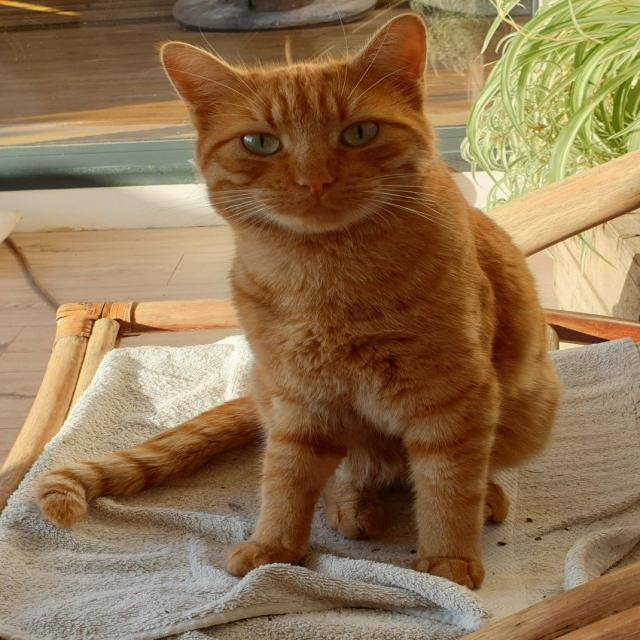sarman: (66, 43, 611, 584)
